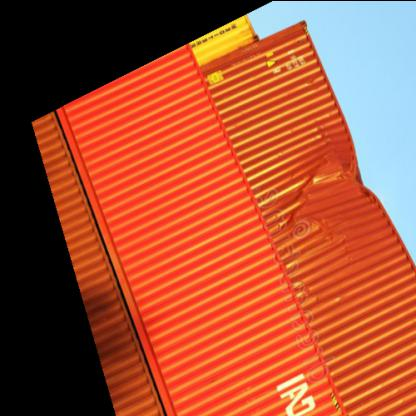Damage: (290, 150, 375, 230)
